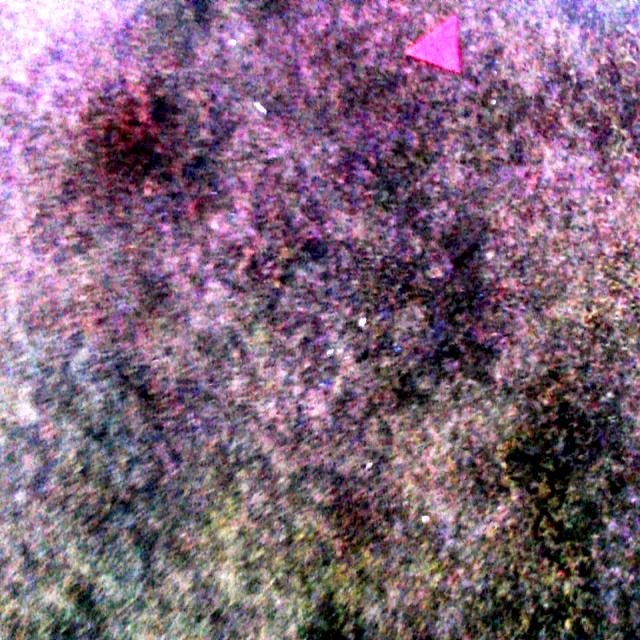red_triangle: (405, 14, 461, 78)
